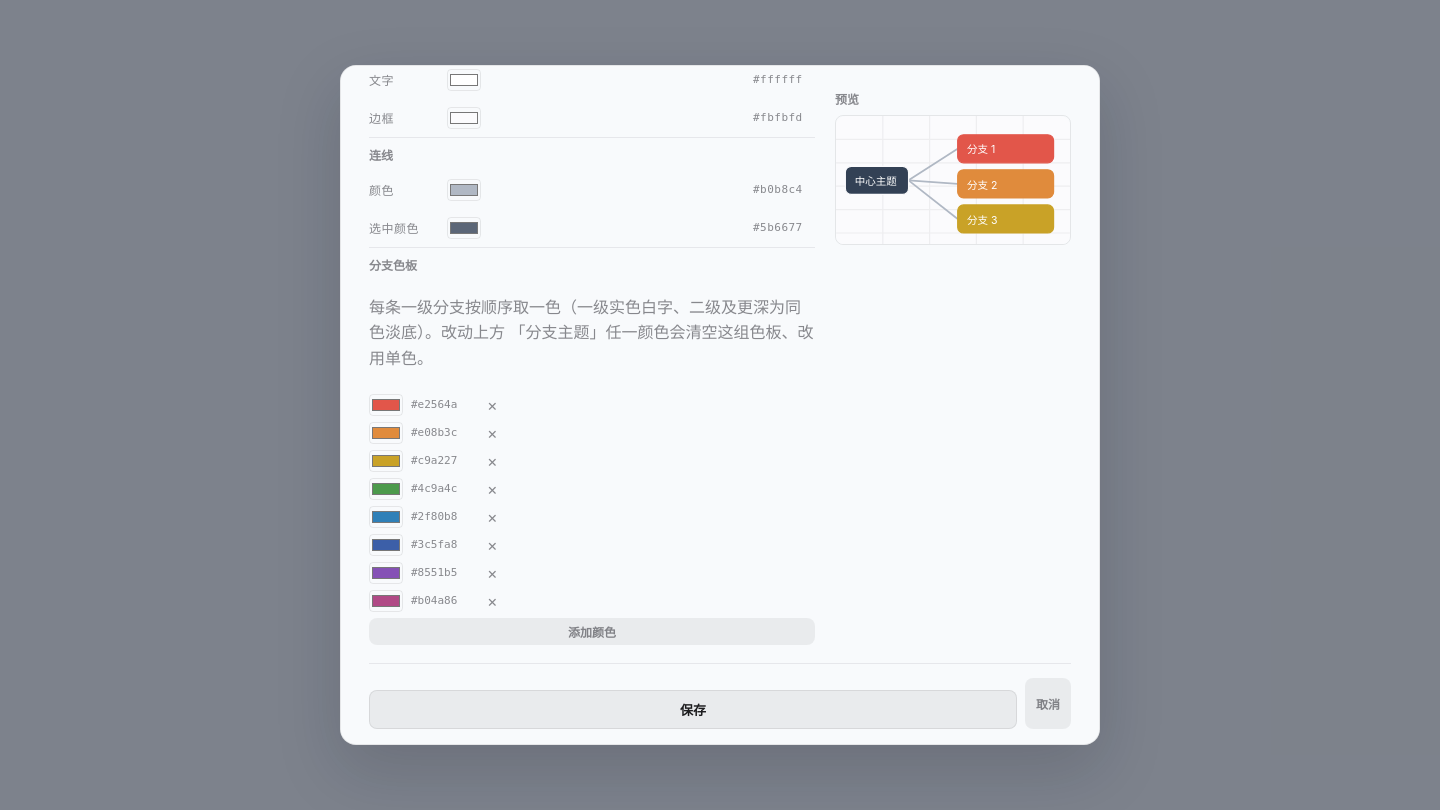
StyleEditor › 色板颜色数到下限时不能再删（不留 1 色的"色板"）
This screenshot has width=1440, height=810.
(page scrolled)
Step 1. Click the button with class "style-editor__remove" next to "#e2564a" → point(492, 405), box [481,395,504,415]
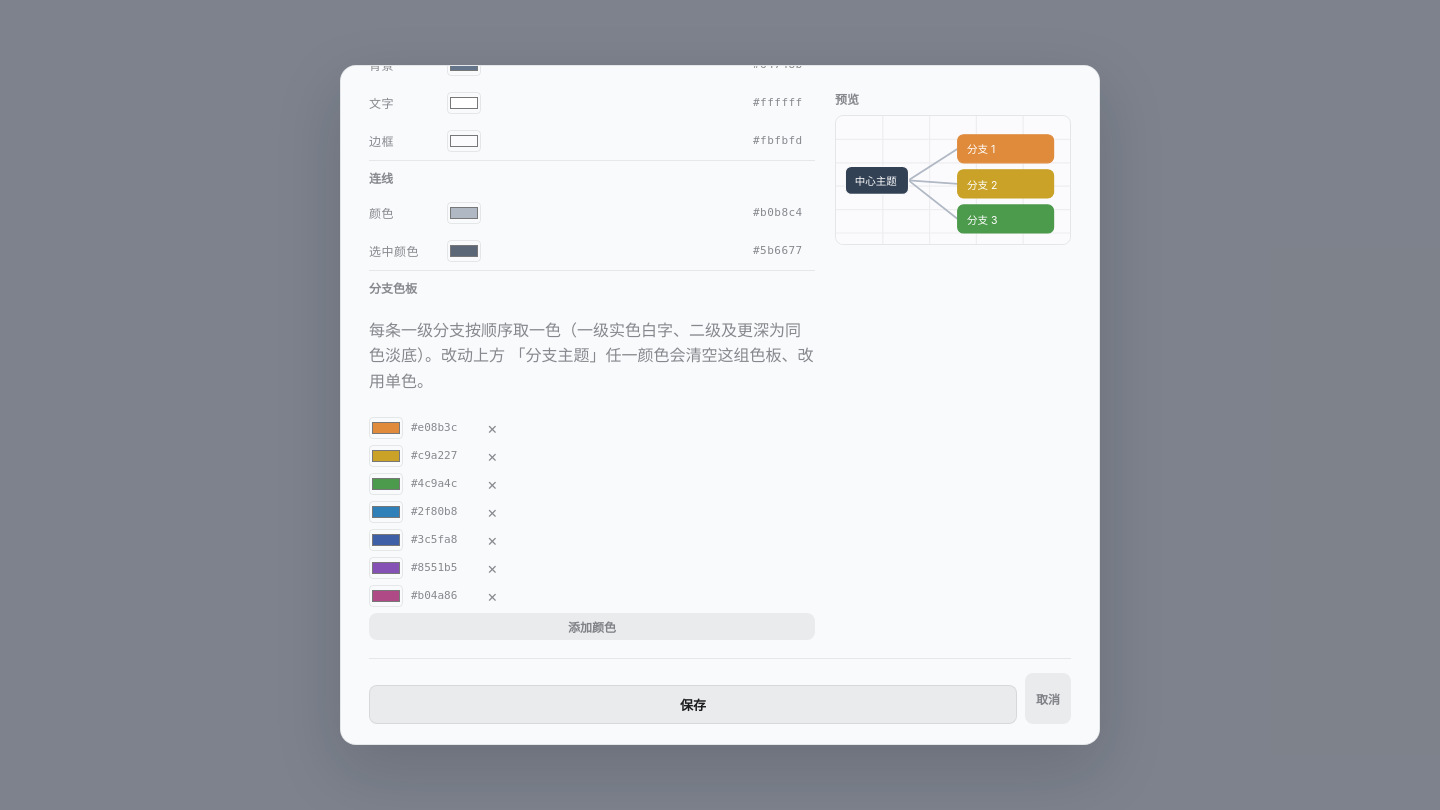
Step 2. Click the button with class "style-editor__remove" next to "#e08b3c" → point(492, 428), box [481,418,504,438]
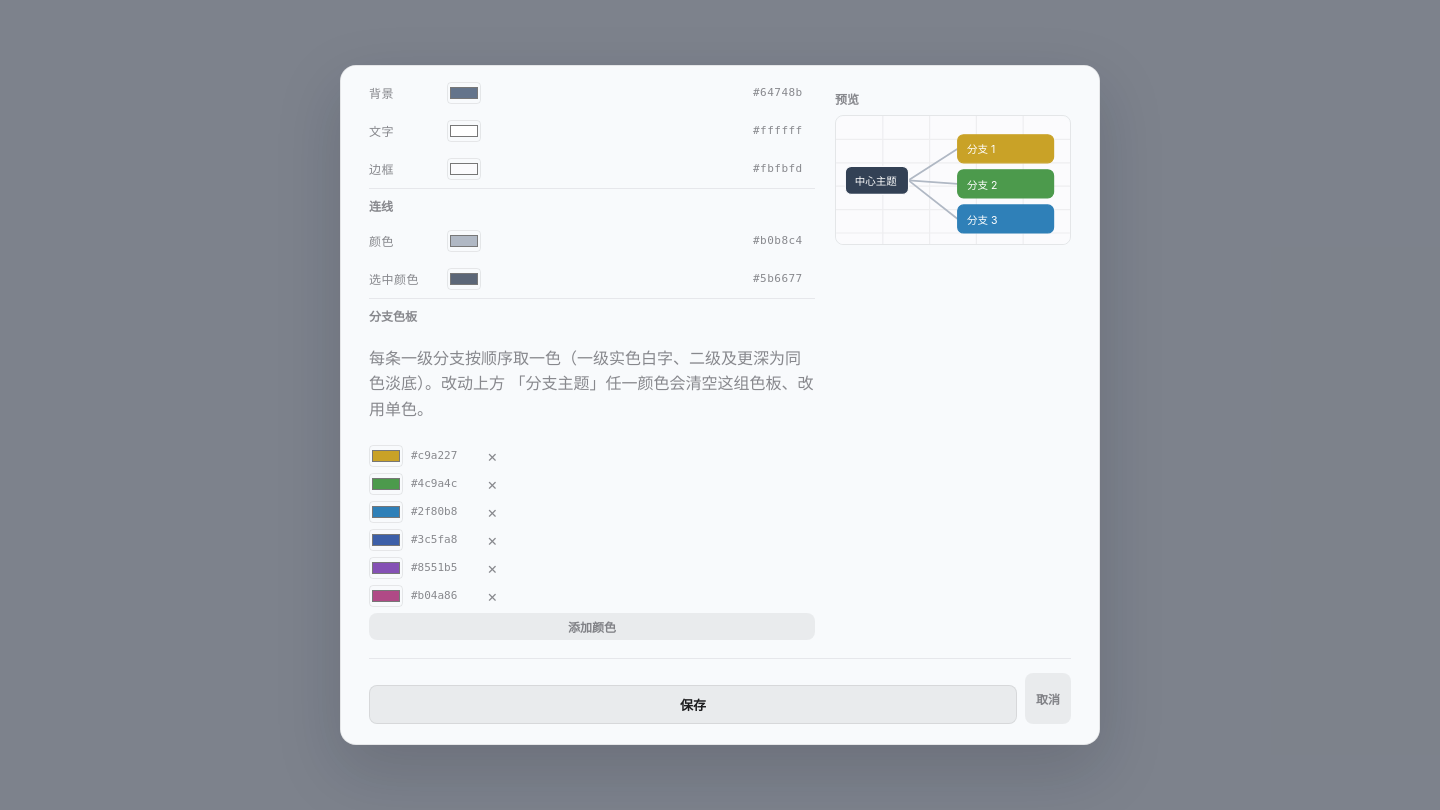
Step 3. Click the button with class "style-editor__remove" next to "#c9a227" → point(492, 456), box [481,446,504,466]
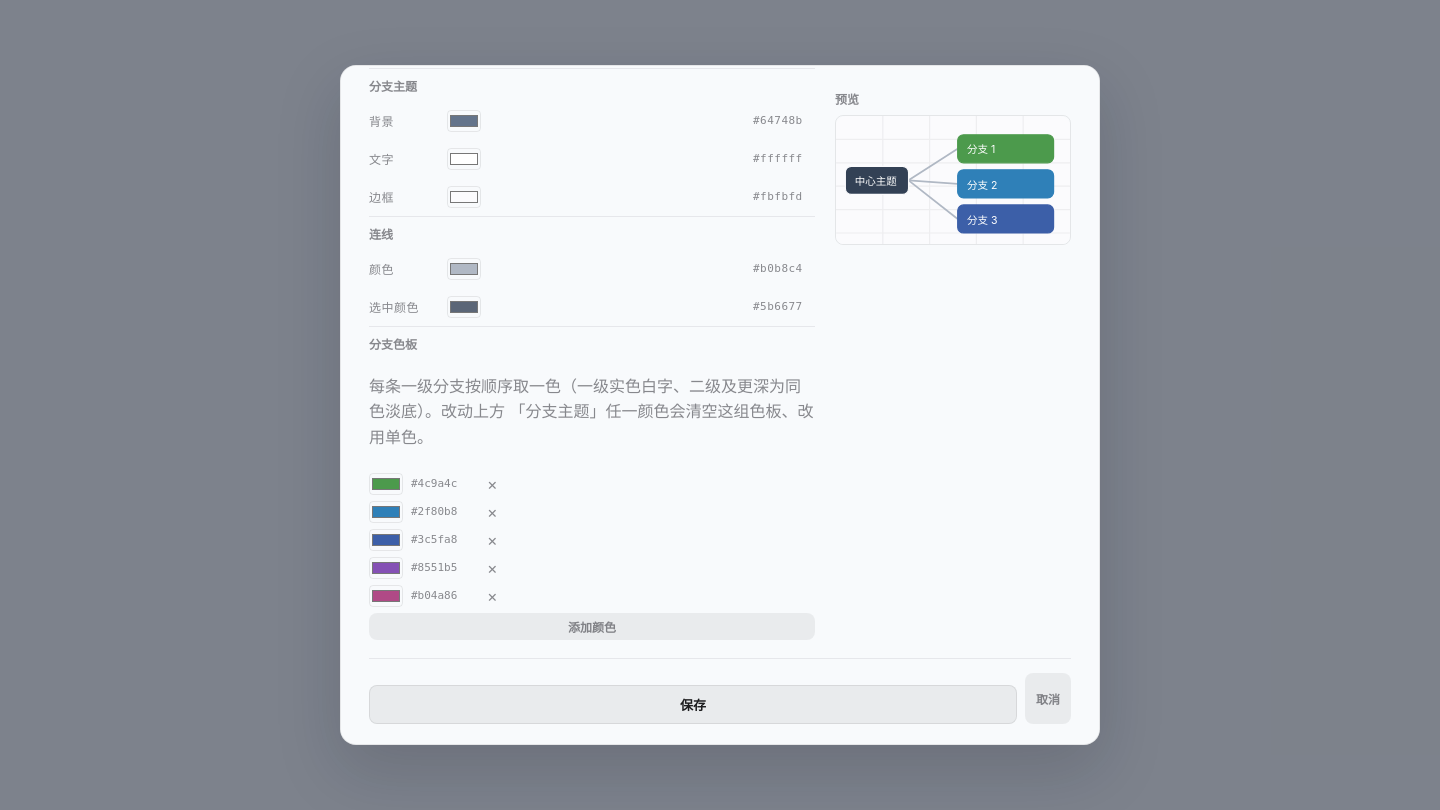
Step 4. Click the button with class "style-editor__remove" next to "#4c9a4c" → point(492, 484), box [481,474,504,494]
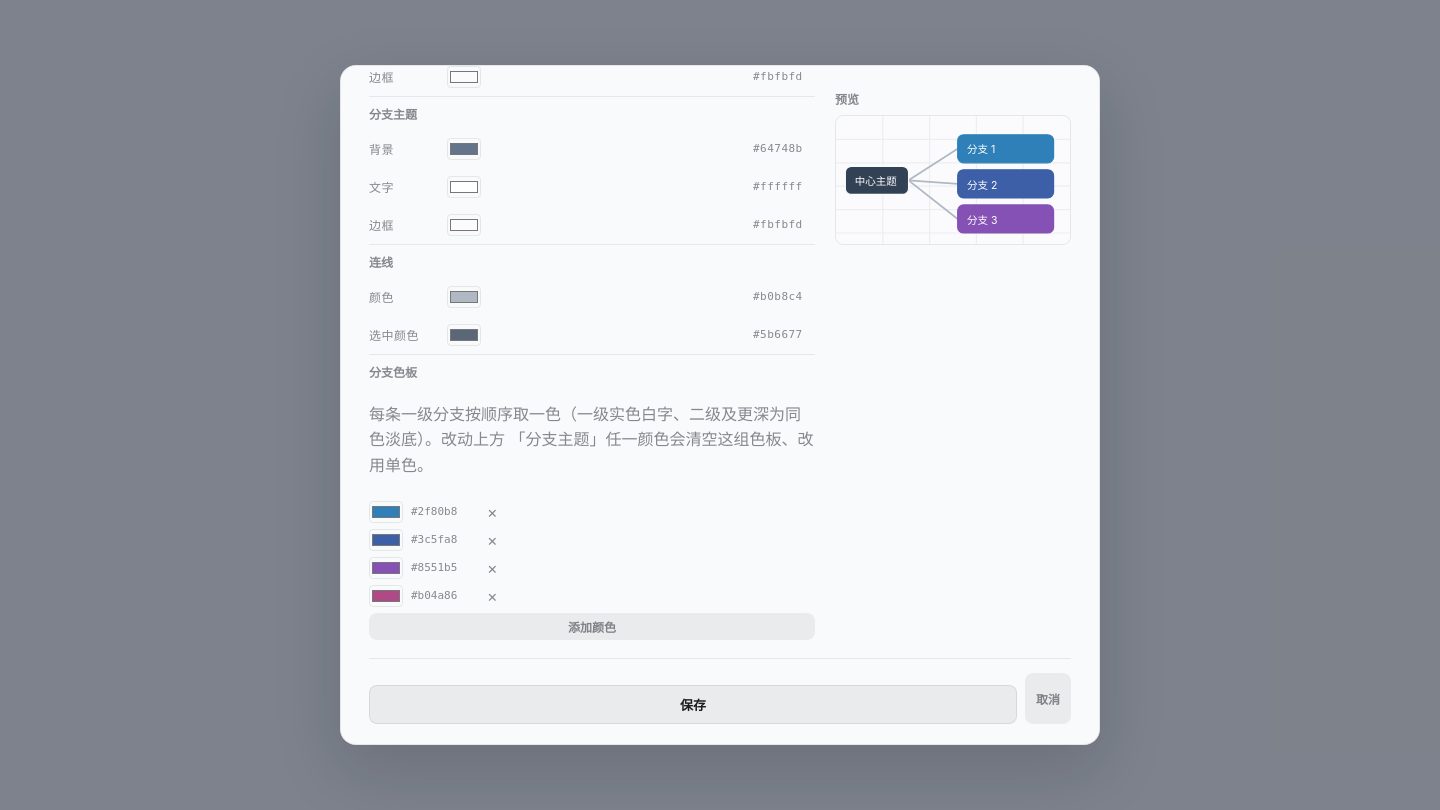
Step 5. Click the button with class "style-editor__remove" next to "#2f80b8" → point(492, 512), box [481,502,504,522]
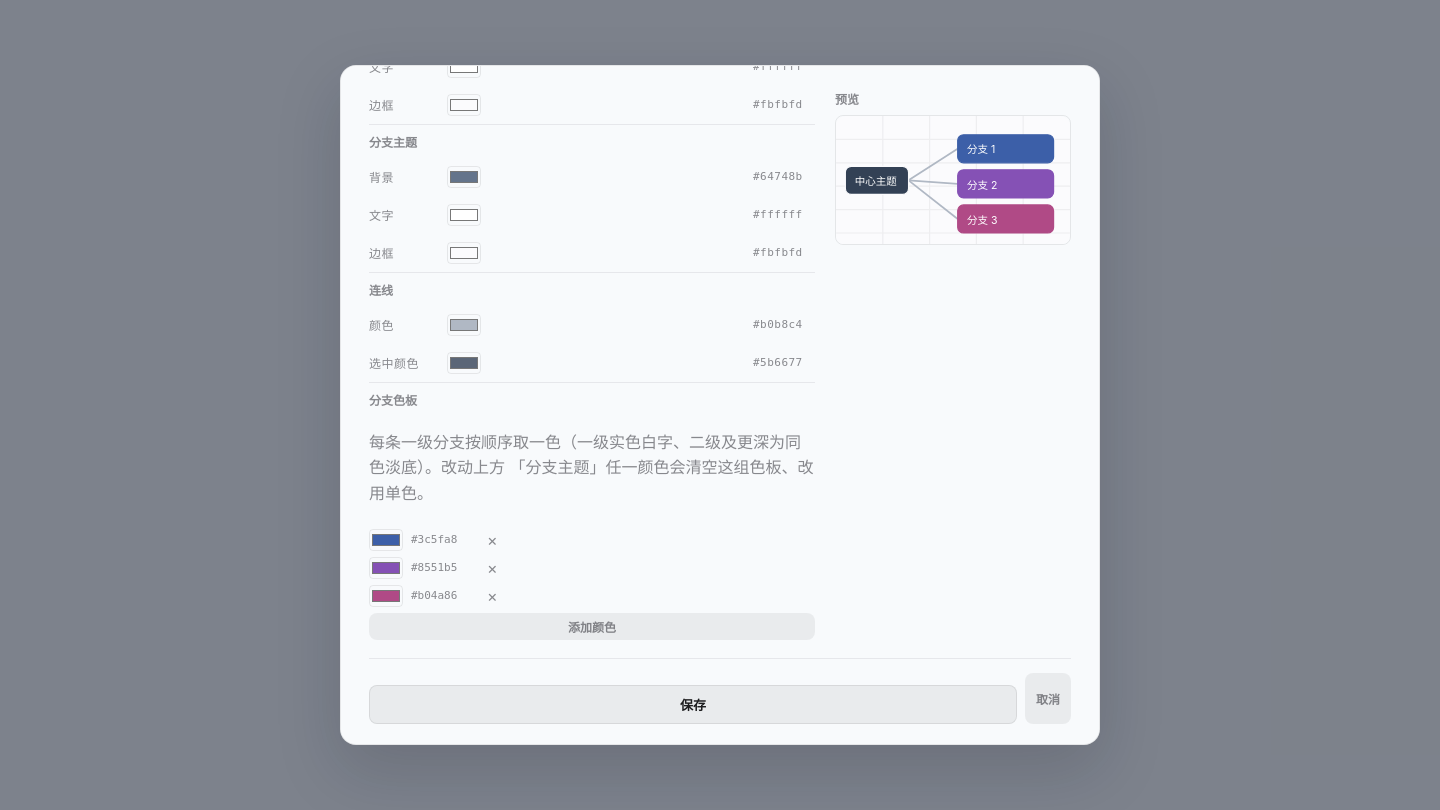
Step 6. Click the button with class "style-editor__remove" next to "#3c5fa8" → point(492, 540), box [481,530,504,550]
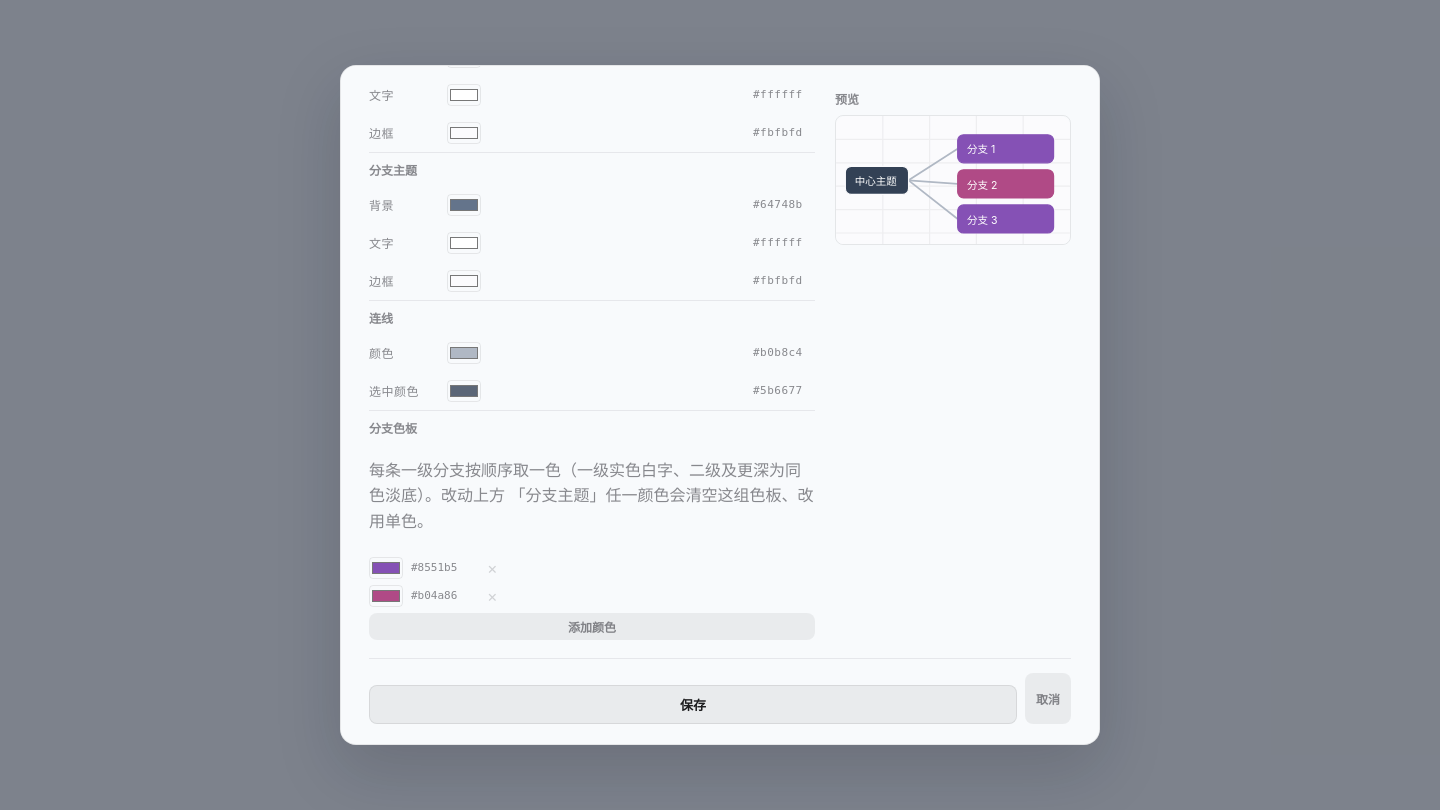
Expected: the number of elements with class "style-editor__palette-row" is 2, [369,557,504,579]; [369,585,504,607]
